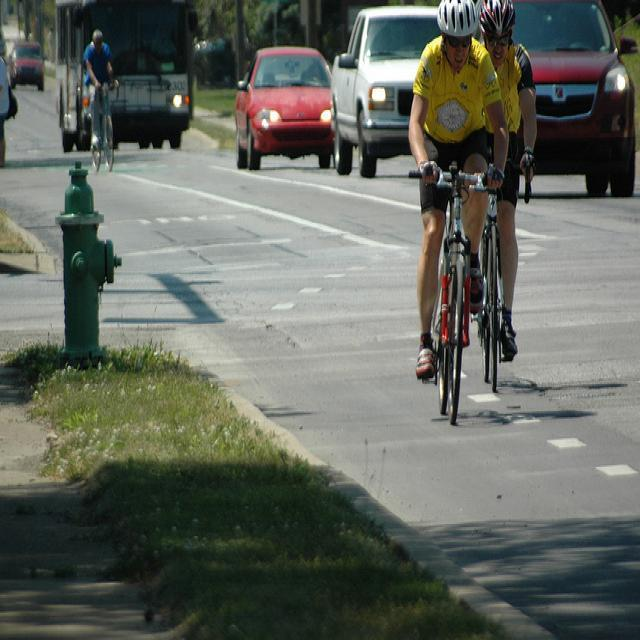fire_hydrant: (55, 160, 123, 356)
